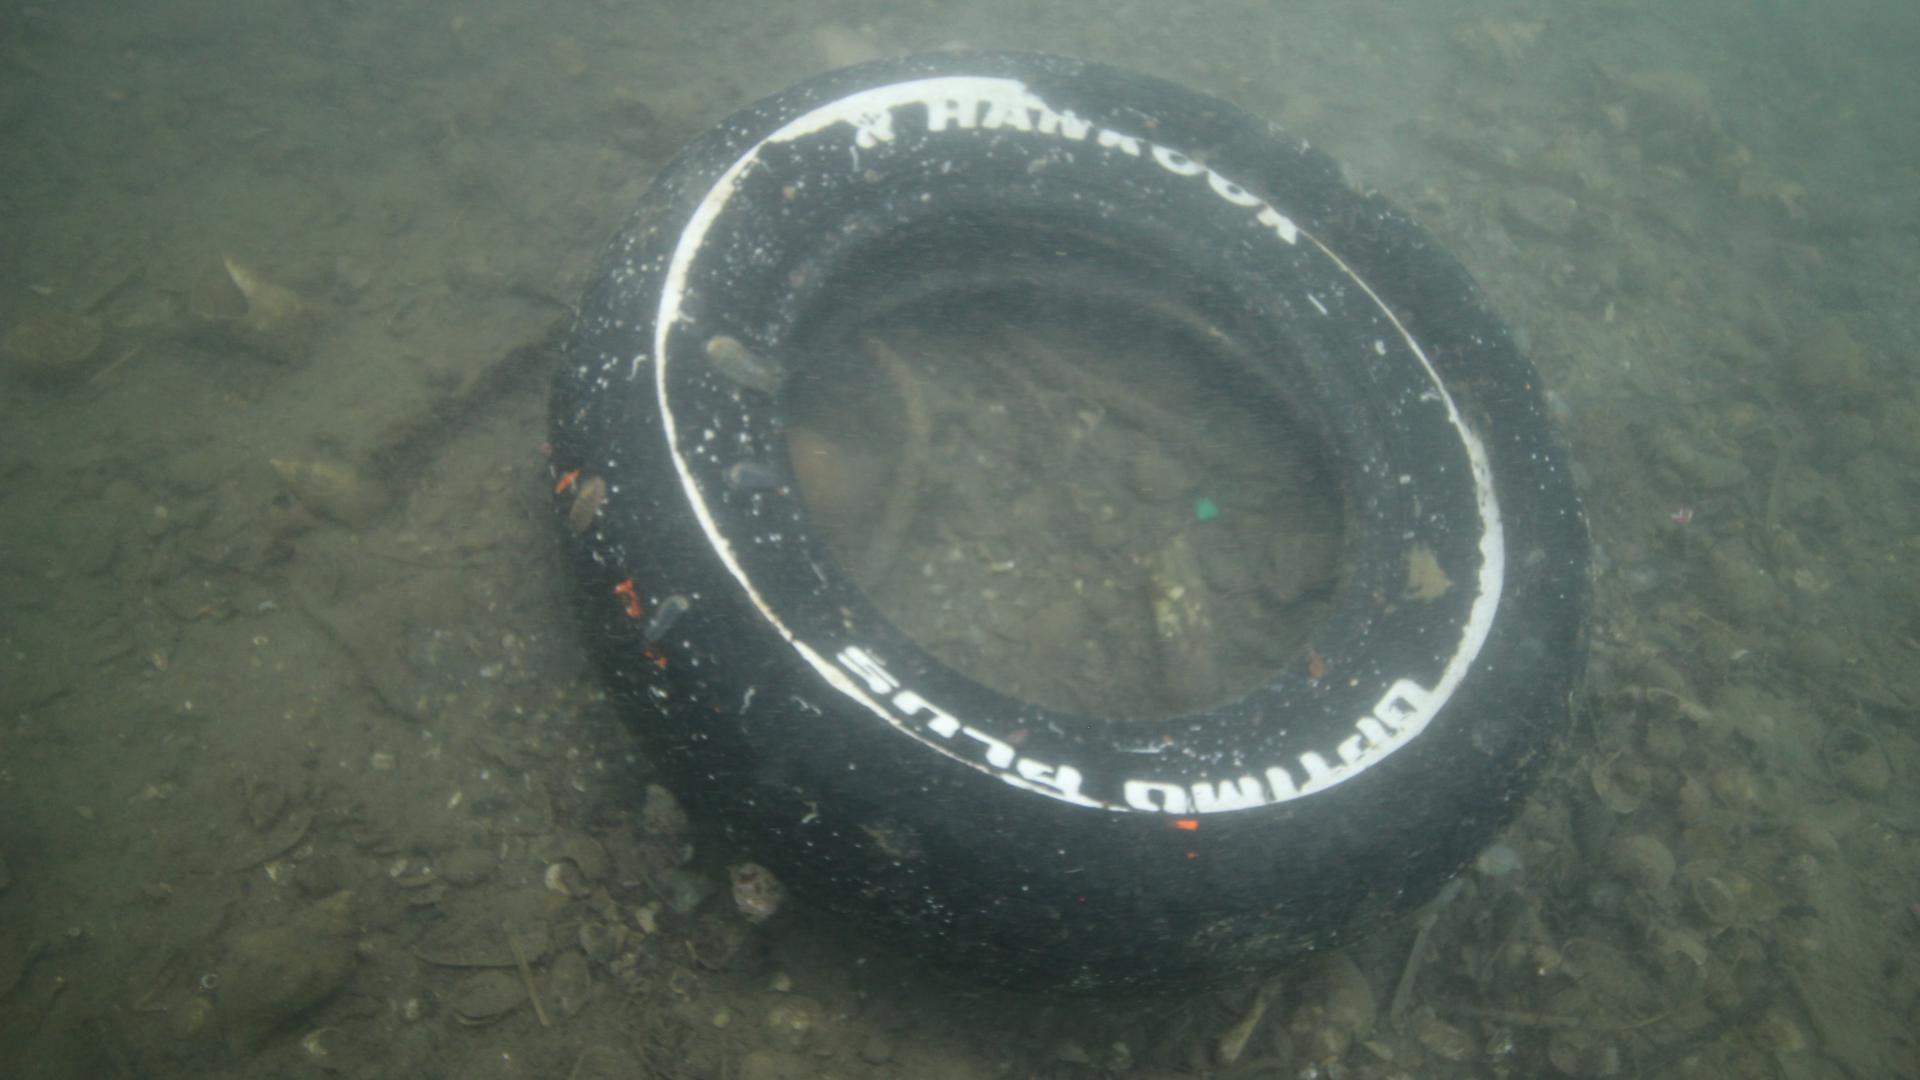tire: (545, 47, 1589, 998)
